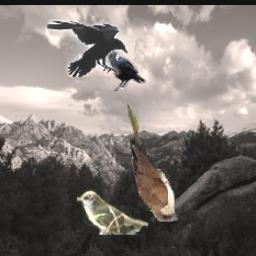Crow: (47, 20, 129, 78), (104, 51, 145, 92)
Cuckoo: (126, 102, 178, 223), (76, 190, 147, 235)
